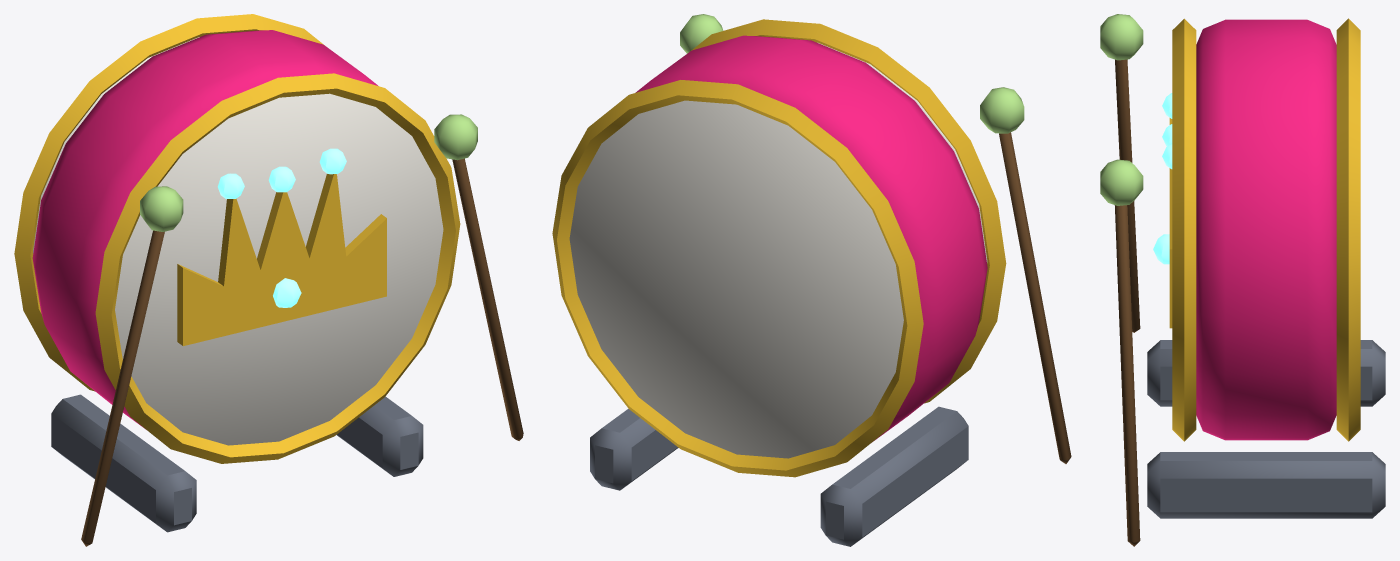
The model's file is W6_Drum_C.fbx.
3 renders of one model, left to right at view 1: azimuth 30°, elevation 25°; view 2: azimuth 150°, elevation 25°; view 3: azimuth 270°, elevation 25°, orthographic.
Parts seen in each view (by area): view 1: W6_Drum_C; view 2: W6_Drum_C; view 3: W6_Drum_C.
Part boxes in pixels (x1=…): W6_Drum_C: x1=14, y1=14, x2=523, y2=546; W6_Drum_C: x1=552, y1=14, x2=1071, y2=546; W6_Drum_C: x1=1100, y1=14, x2=1385, y2=546.
Bounding box in the file's own units: 1.94 × 1.75 × 1.08.
